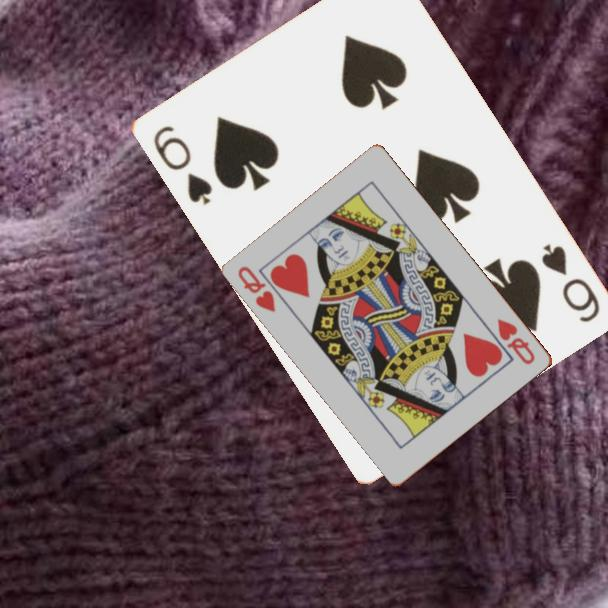h12: (494, 315, 538, 368), (235, 262, 279, 315)
s06: (149, 121, 215, 209), (537, 240, 603, 326)
